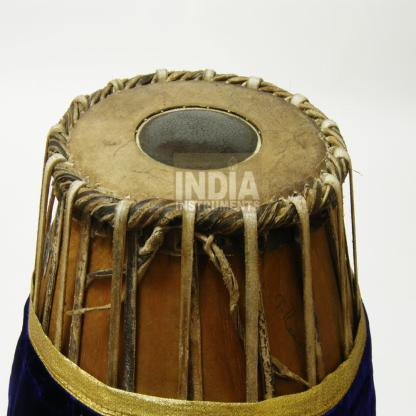Mridangam: (21, 48, 363, 365)
